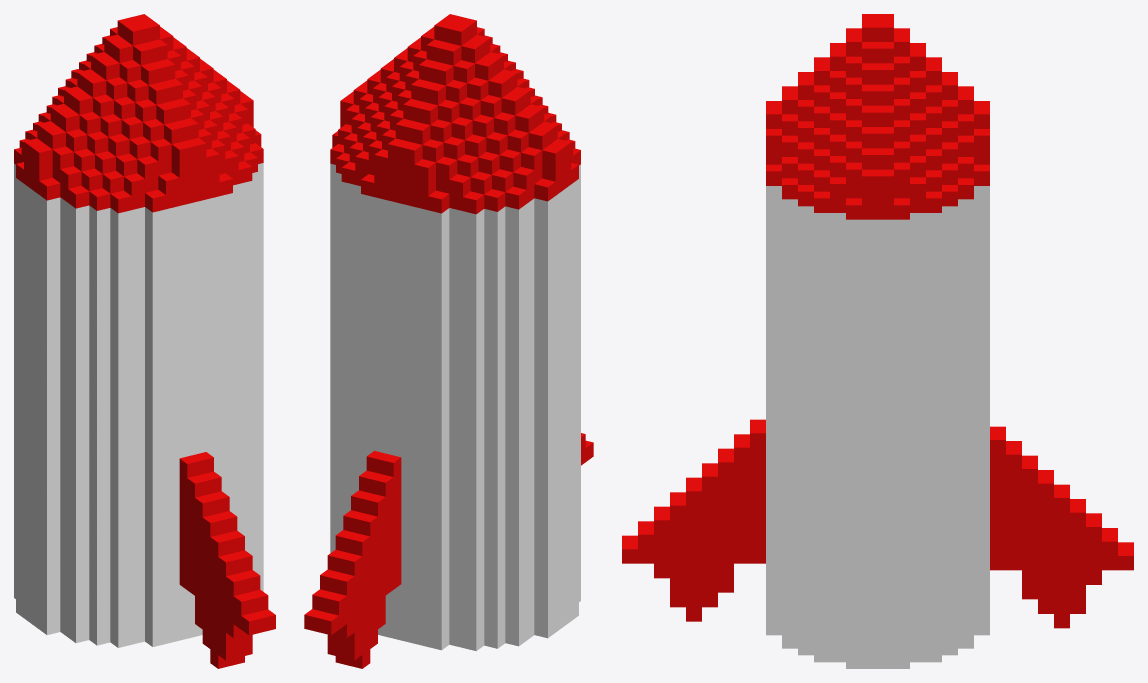
File: missile.gltf
3 views of the same model, side by side, from view 1: azimuth 30°, elevation 25°; view 2: azimuth 150°, elevation 25°; view 3: azimuth 270°, elevation 25° (orthographic). The views are drawn at different scales.
Parts seen in each view (by area): view 1: Layer.1; view 2: Layer.1; view 3: Layer.1.
Boxes of the visible parts, bbox=[...] form: Layer.1: bbox=[14, 14, 275, 668]; Layer.1: bbox=[304, 14, 593, 668]; Layer.1: bbox=[622, 14, 1133, 668].
Bounding box in the file's own units: 16 × 42 × 32.
Materials: 1 (1 with a texture image).
